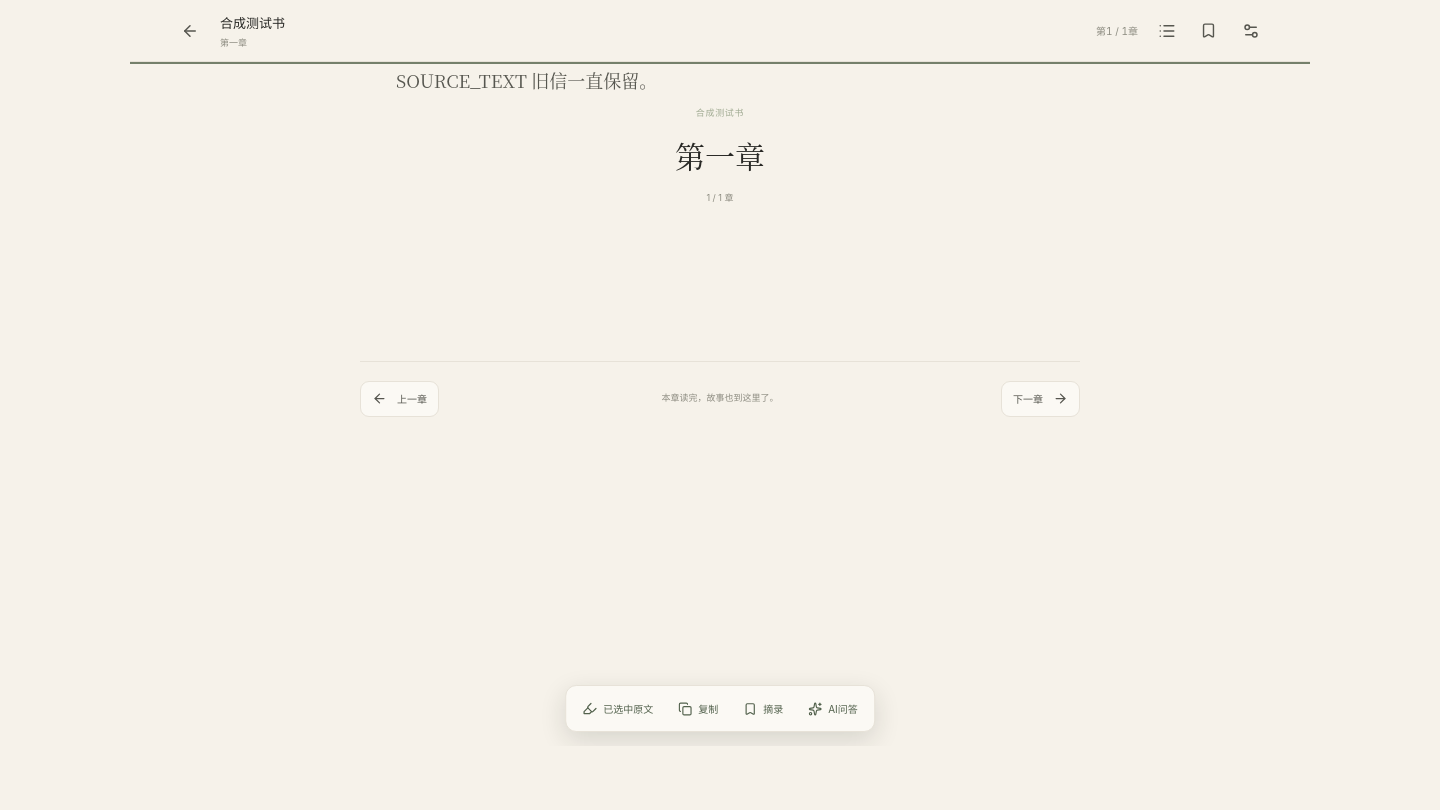
Test: Reader page expanded AI context flow › shows only validated clickable sources returned with the completed response
Click the button "AI问答" at {"x": 833, "y": 708}, box [798,692,868,725]
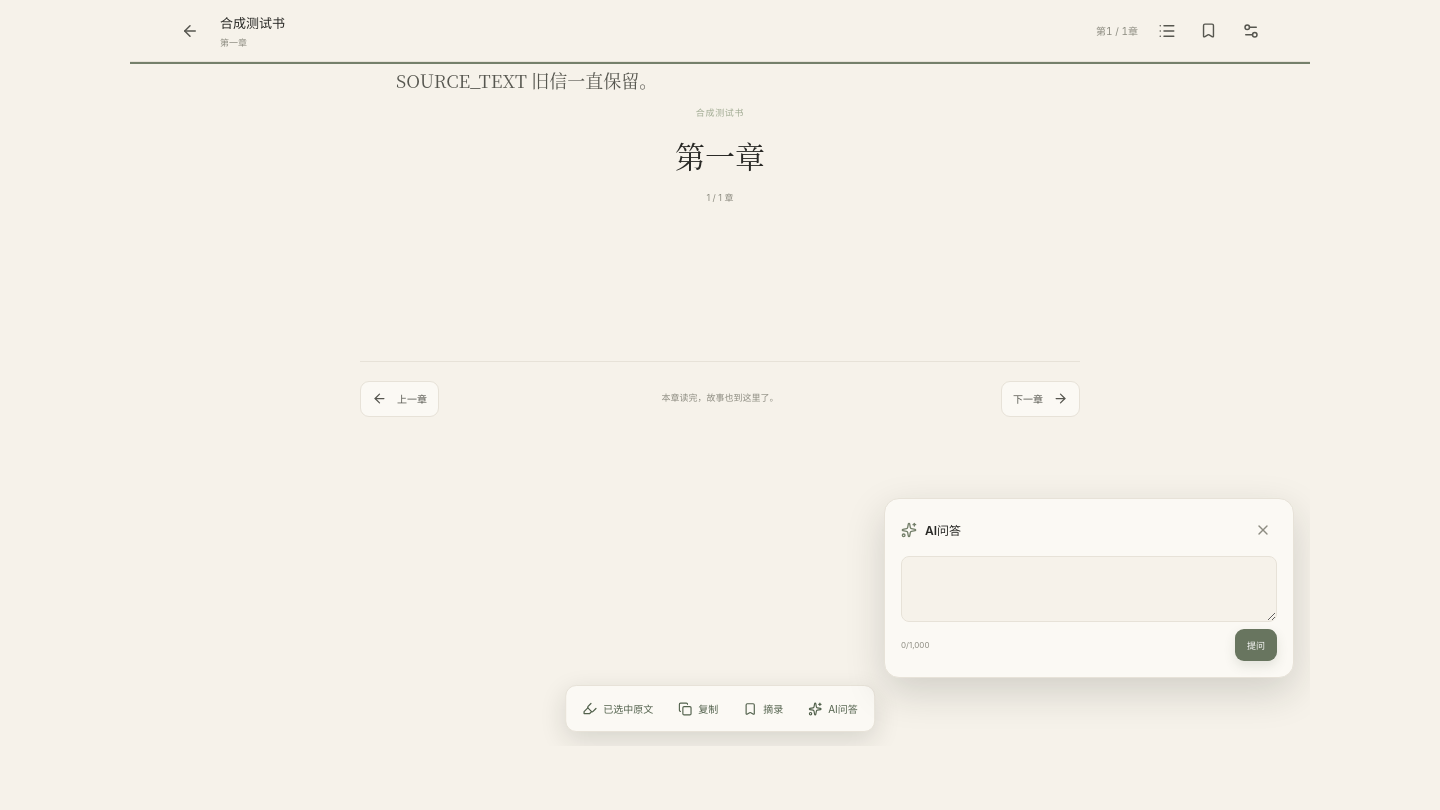
Type "旧信为何重要？" into the text box with id "reader-ai-question" at {"x": 1089, "y": 589}, box [901,556,1277,622]
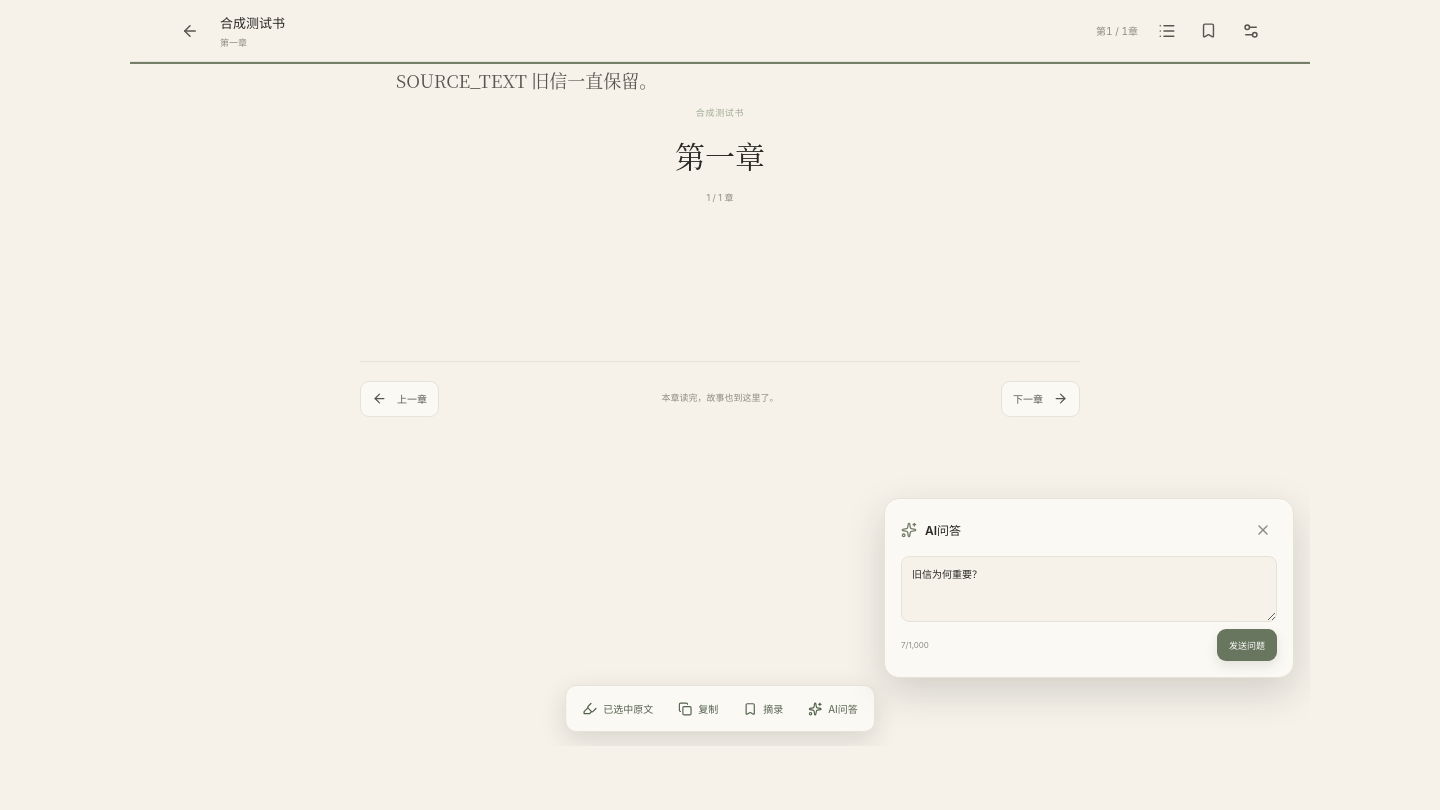
Submit the form with class "reader-ai-question-form", box [901,556,1277,661]
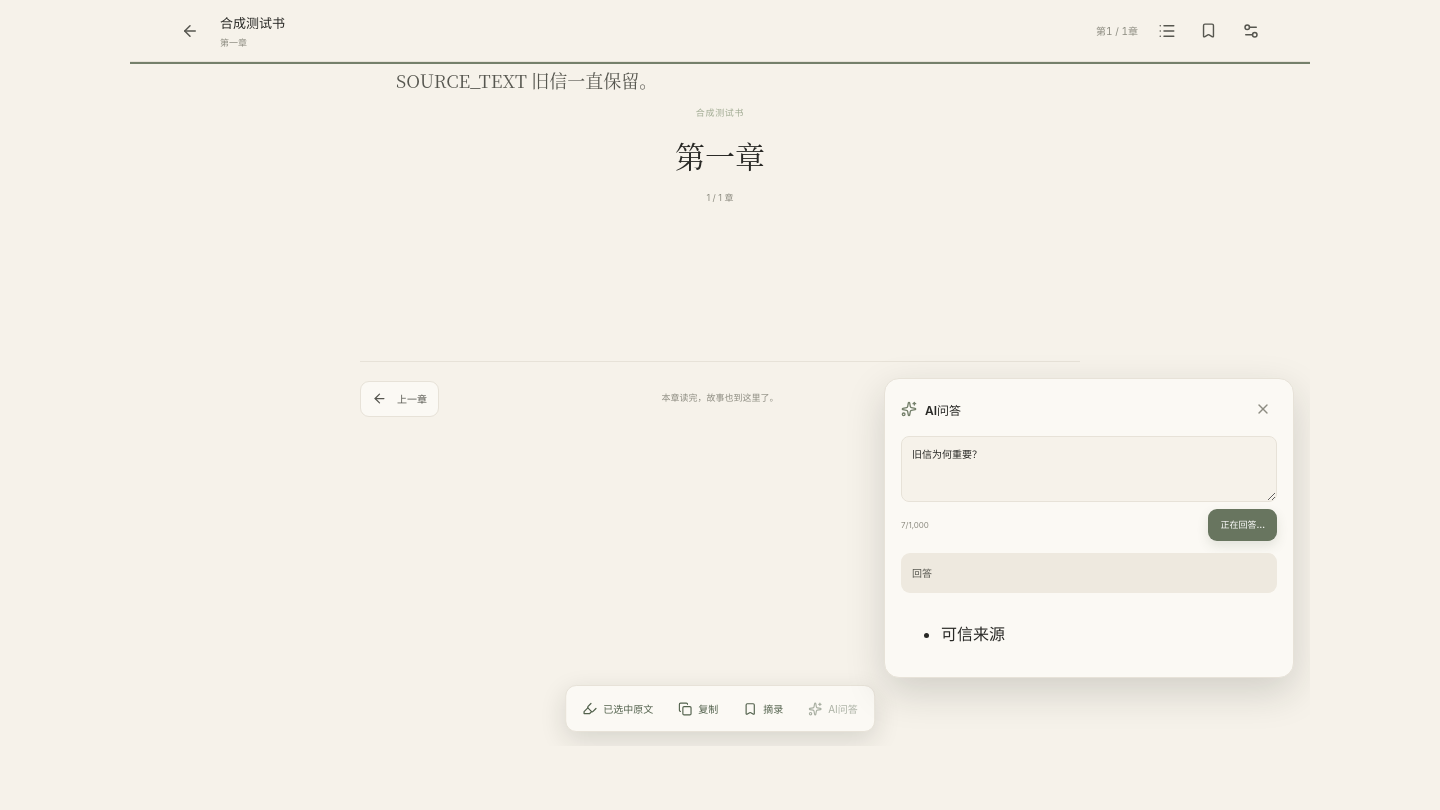
Check: the link "可信来源" is shown, box [941,624,1005,644]
